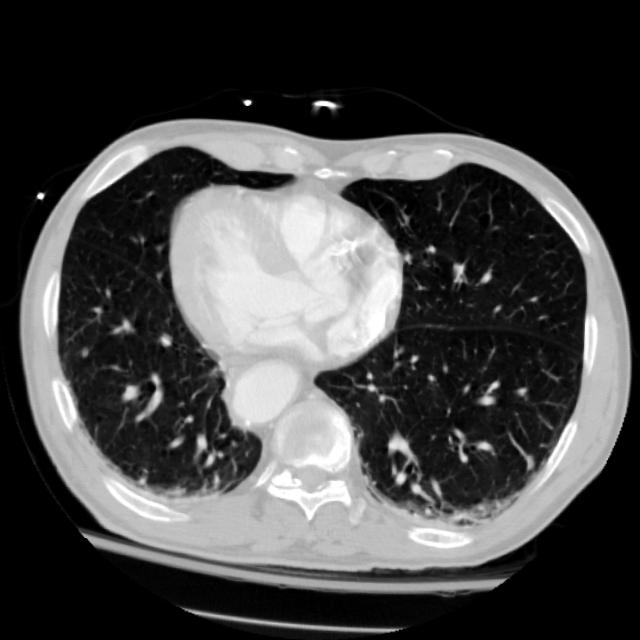nodule: (520, 450, 544, 473)
